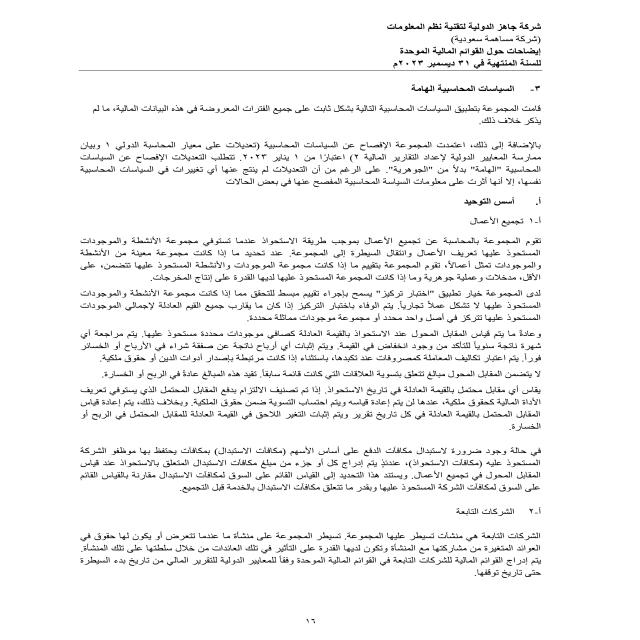notes: (389, 46, 543, 59)
text: (31, 80, 556, 596)
